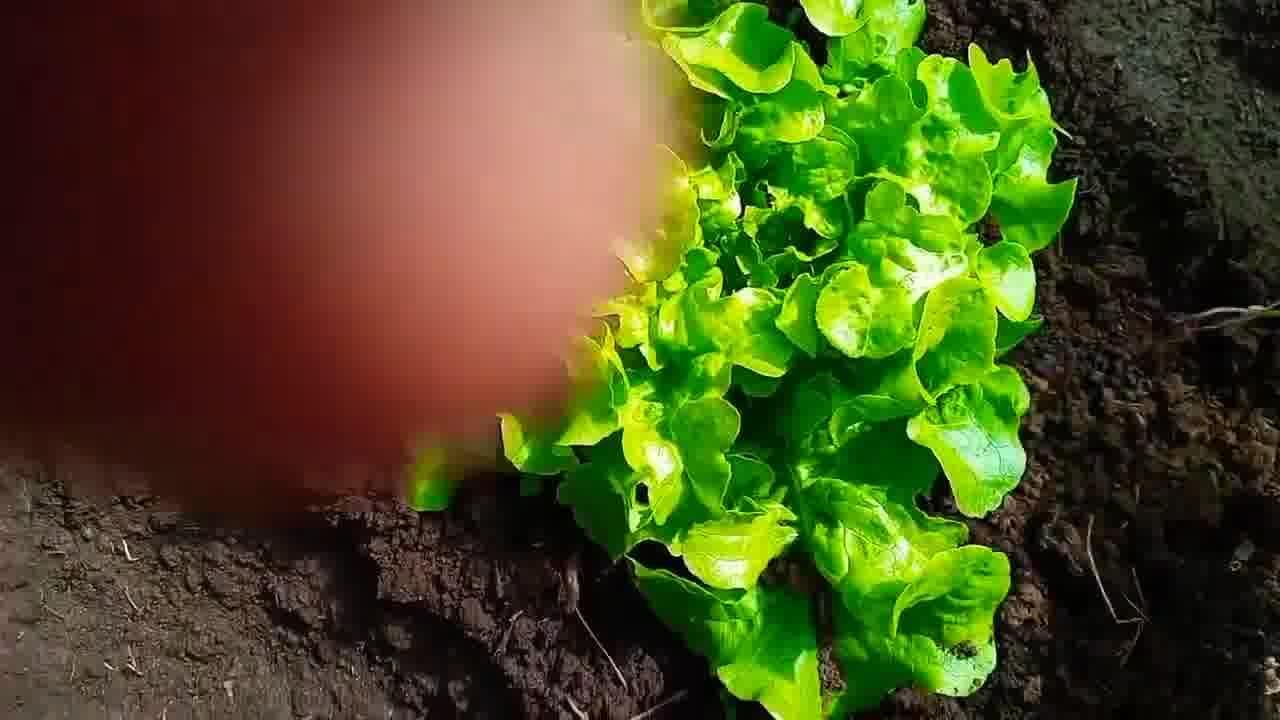Healthy: (393, 0, 1091, 720)
